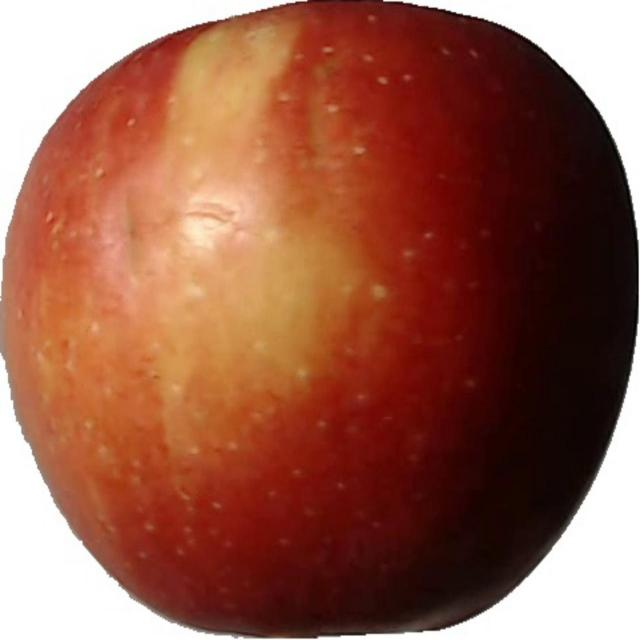apple: (1, 0, 638, 638)
